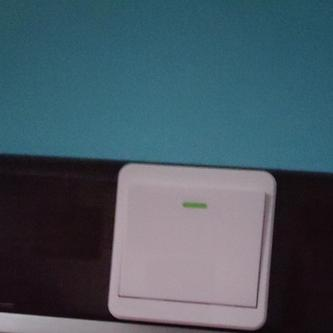switch: (129, 177, 265, 303)
